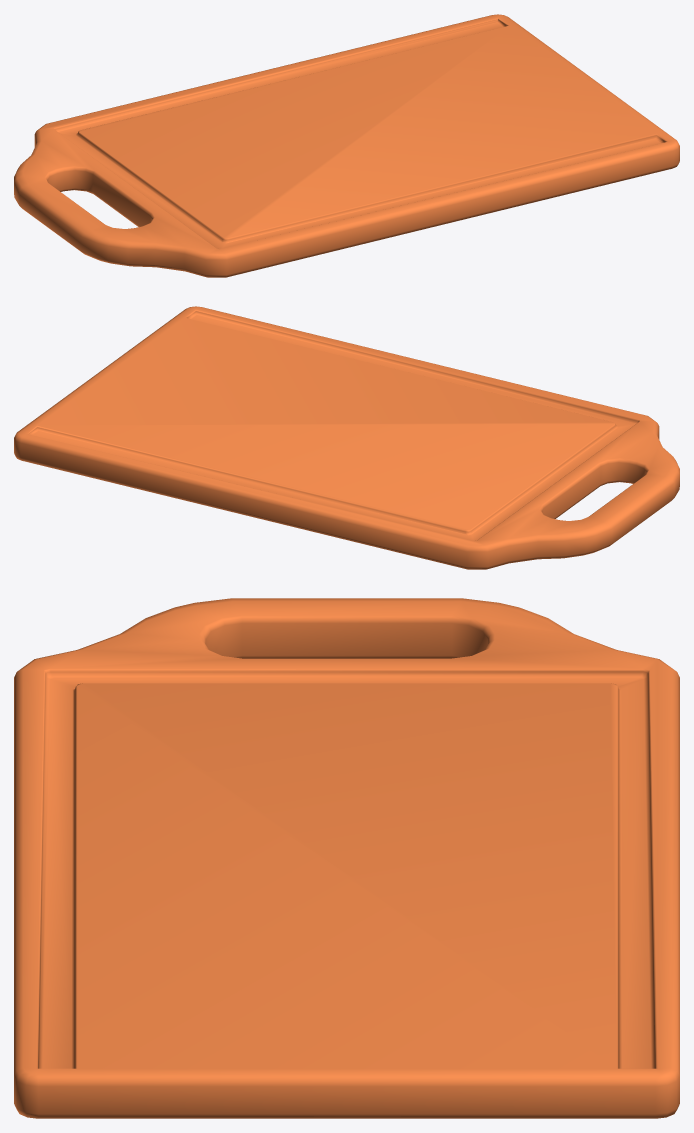
The model's file is cutting_board.fbx.
3 renders of one model, top to bottom at view 1: azimuth 30°, elevation 25°; view 2: azimuth 150°, elevation 25°; view 3: azimuth 270°, elevation 25°, orthographic. The views are drawn at different scales.
Parts seen in each view (by area): view 1: Board; view 2: Board; view 3: Board.
Part boxes in pixels (bbox=[...]): Board: bbox=[14, 14, 679, 277]; Board: bbox=[14, 306, 679, 569]; Board: bbox=[14, 598, 679, 1118].
Bounding box in the file's own units: 631 × 26.77 × 366.
